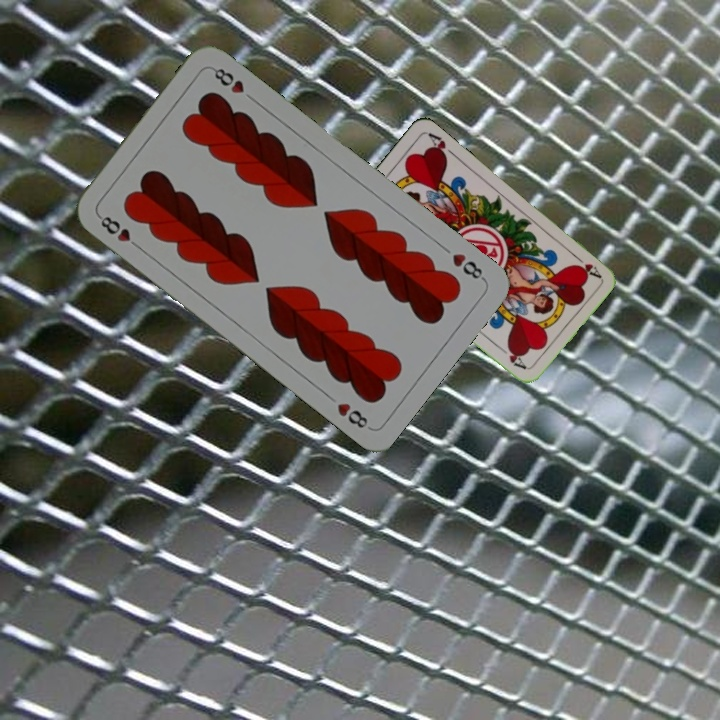H8: (94, 211, 144, 252), (448, 249, 488, 283)
HA: (568, 250, 603, 280)
